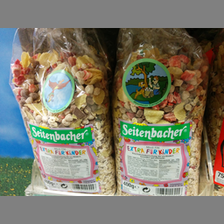cereal: (9, 28, 117, 194), (111, 27, 212, 196)
